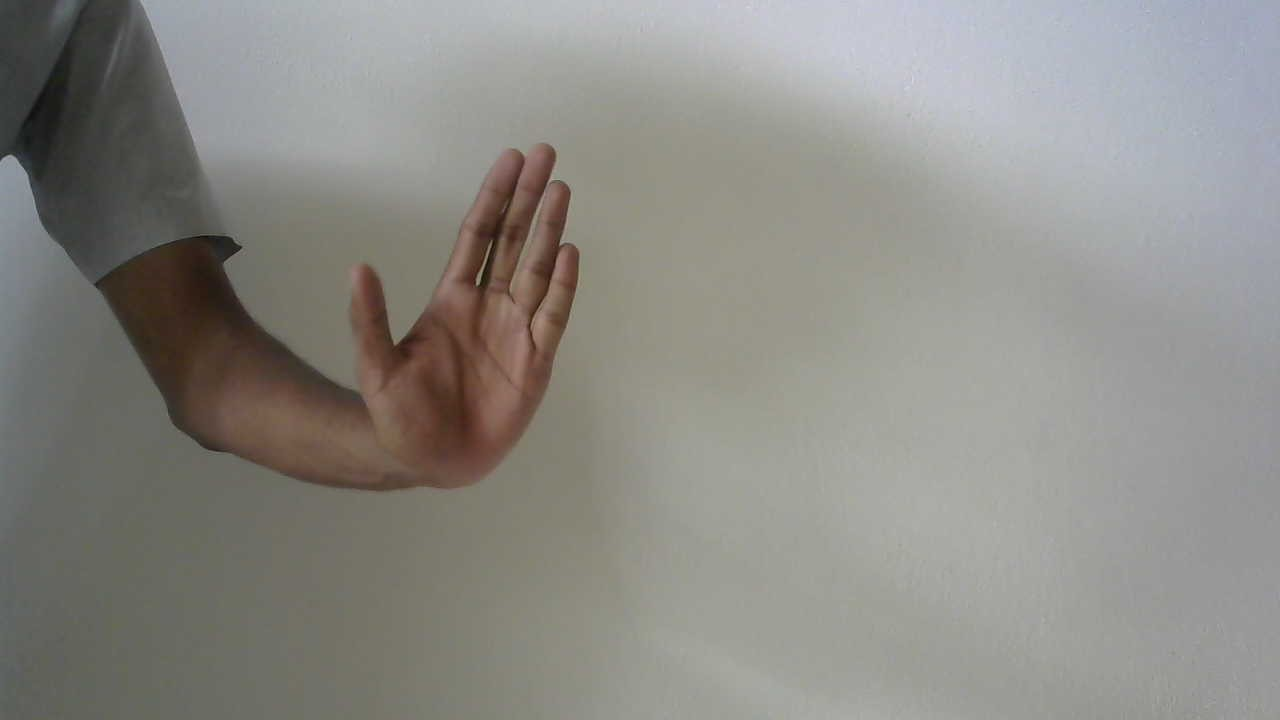hello: (333, 134, 589, 495)
